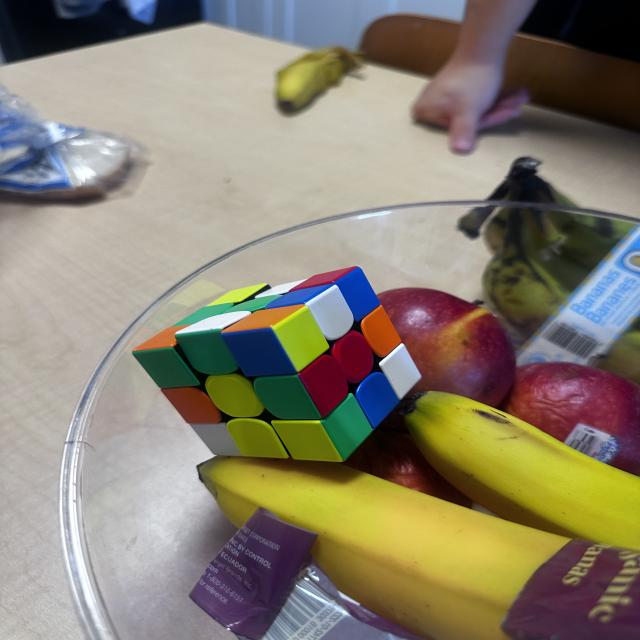sticker: (222, 304, 328, 378), (272, 393, 372, 462), (278, 265, 381, 325), (175, 310, 252, 376), (130, 327, 205, 391), (251, 369, 325, 422), (265, 281, 347, 327), (270, 414, 344, 464), (296, 355, 351, 418), (328, 266, 383, 324), (301, 284, 355, 342), (205, 371, 268, 419), (376, 342, 422, 401), (226, 417, 290, 459), (159, 384, 222, 426), (355, 372, 400, 428), (330, 329, 374, 383), (360, 304, 403, 358), (290, 266, 360, 292), (173, 303, 238, 328), (208, 284, 271, 306), (222, 294, 283, 316)
